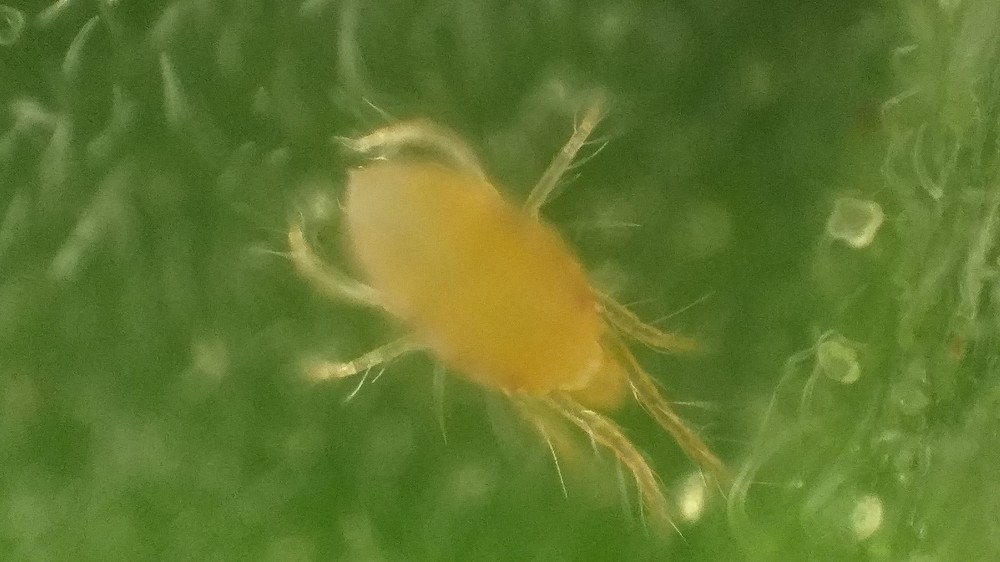Aracnido Rojo: (275, 80, 775, 522)
